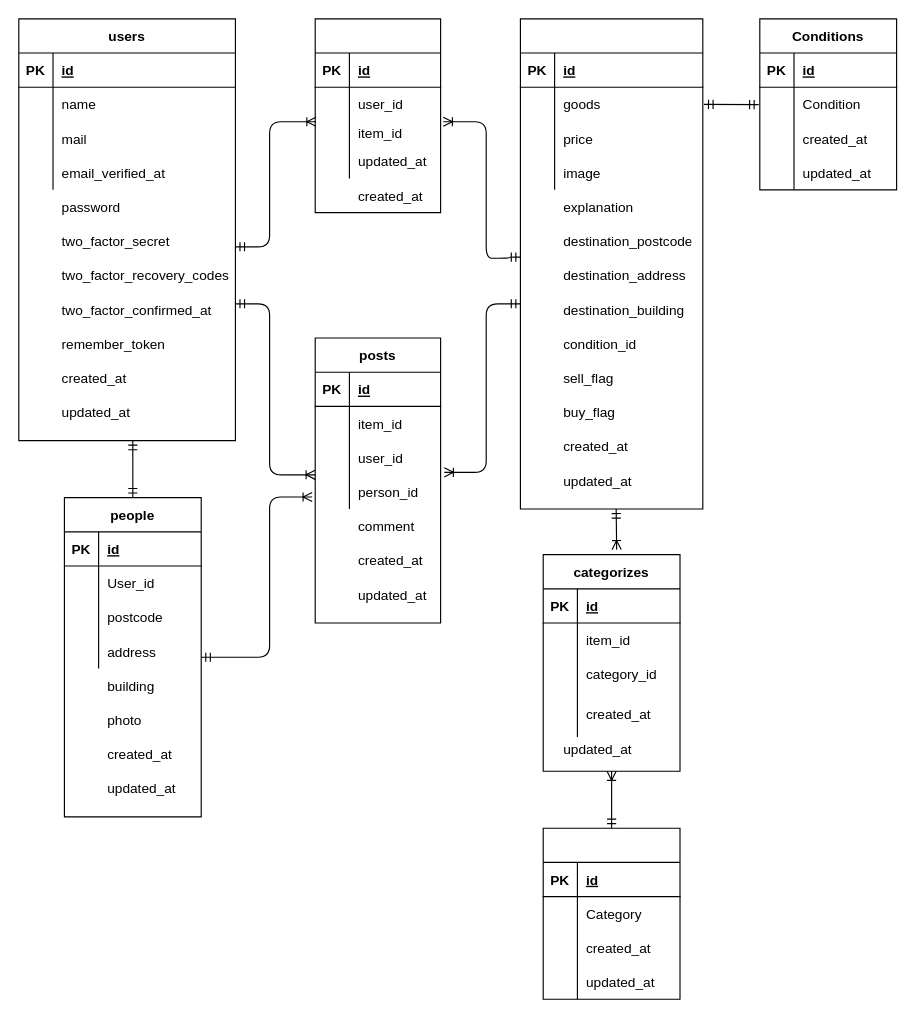
The diagram is 915 pixels wide and 1018 high, and some of its shapes have lost their labels. The box of each missing label's shape, as (x1, y1, x2, y2) in pixels:
categories: (542, 827, 680, 999)
items: (519, 18, 703, 509)
